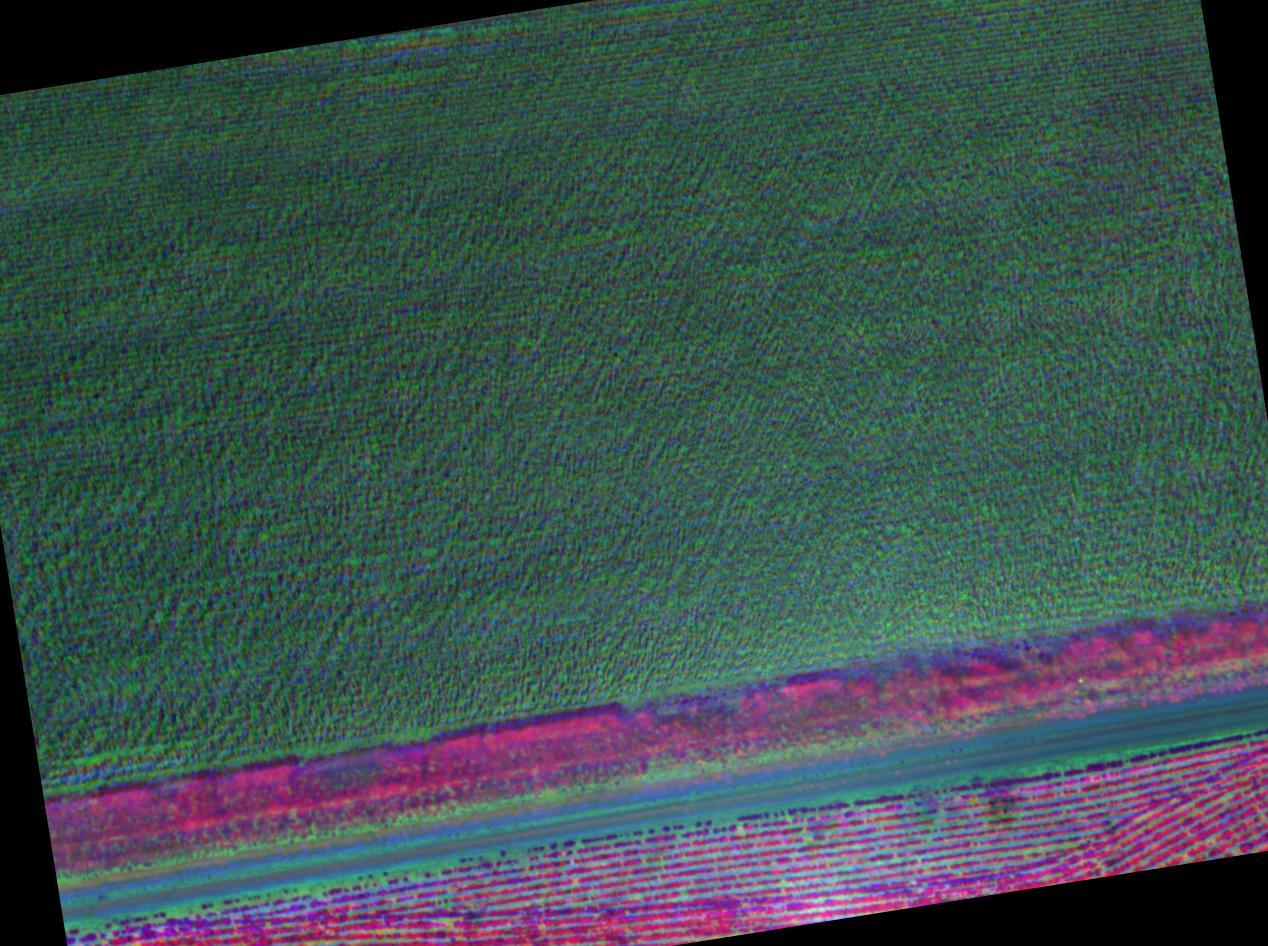dc: (946, 756, 1051, 849)
